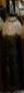cylinder: (1, 1, 24, 93)
